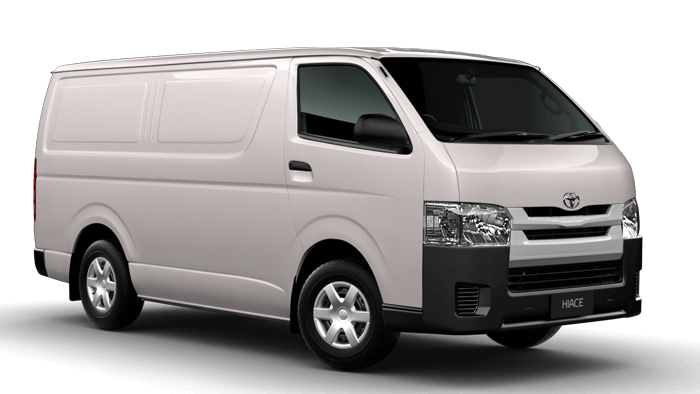van: (32, 45, 643, 370)
